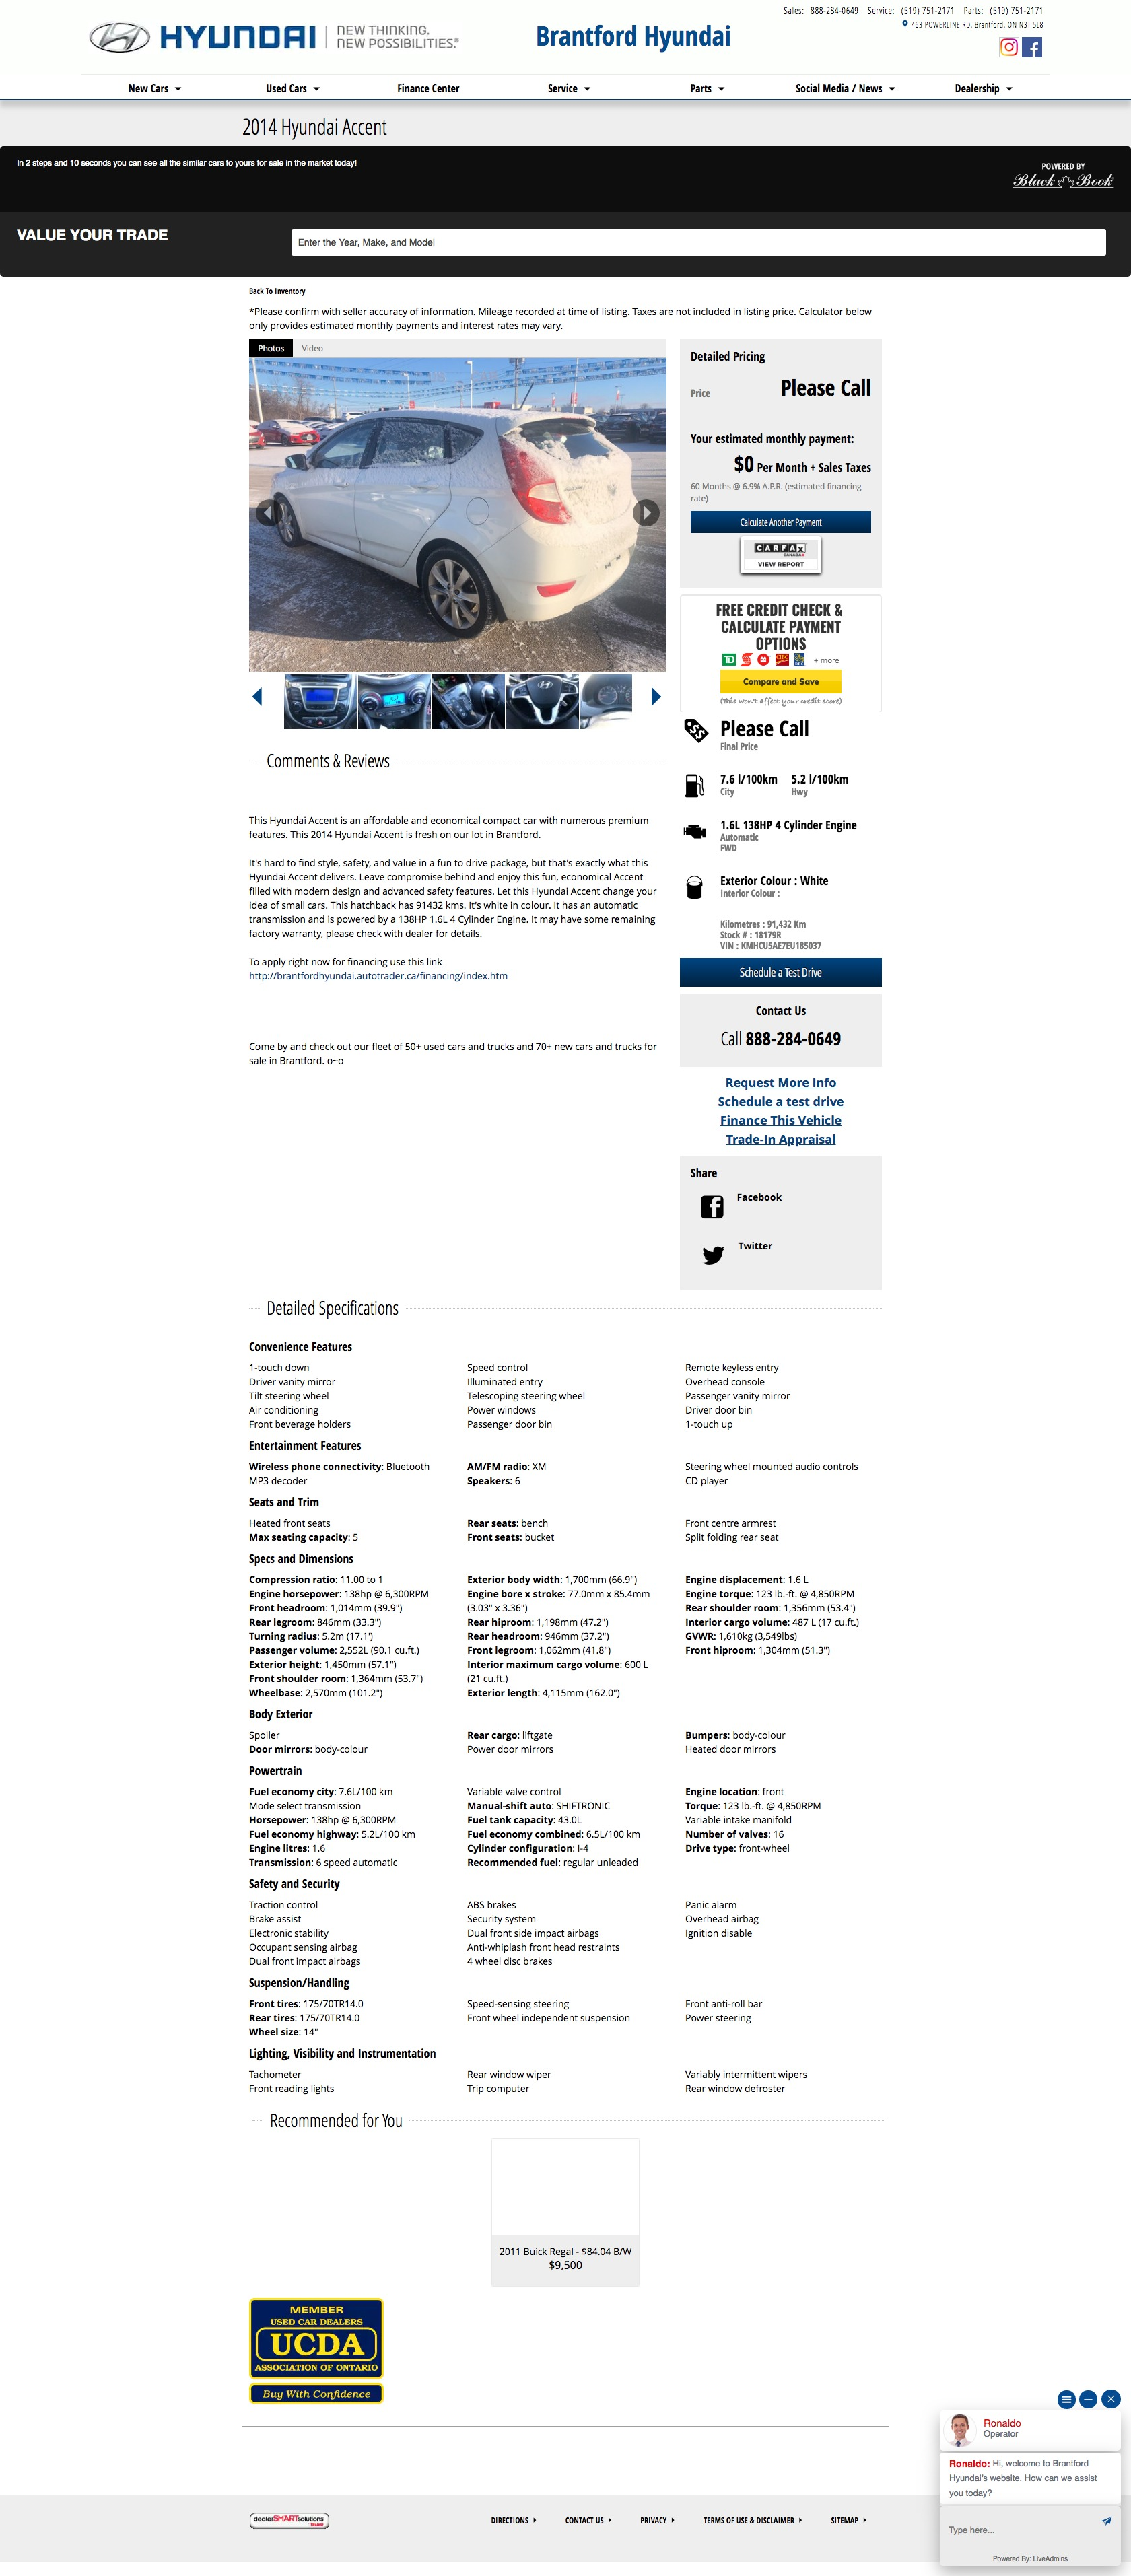car: (651, 688, 661, 708)
